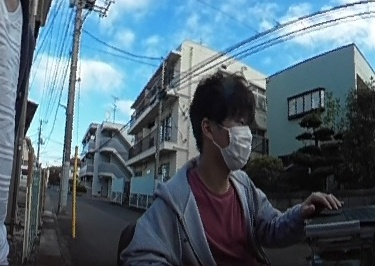person: (124, 72, 318, 266)
